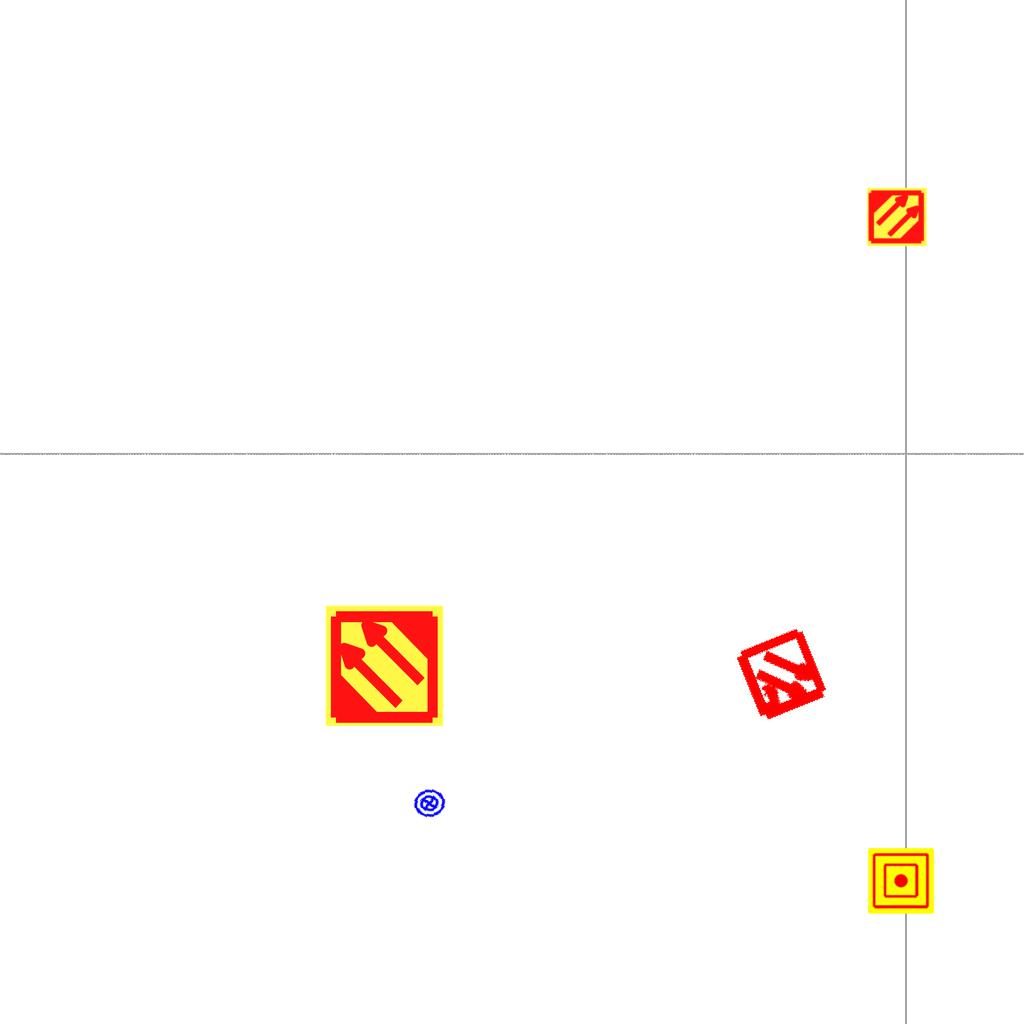ASR_Ansaugrauchmelder: (322, 603, 447, 728), (866, 186, 928, 248)
NAM-Nichtautomatischer_Melder: (868, 848, 934, 914)
OT_Multisensormelder_(Kombination_RMO_WMD): (708, 602, 857, 751)
Taster_beleuchtet: (410, 784, 449, 823)
